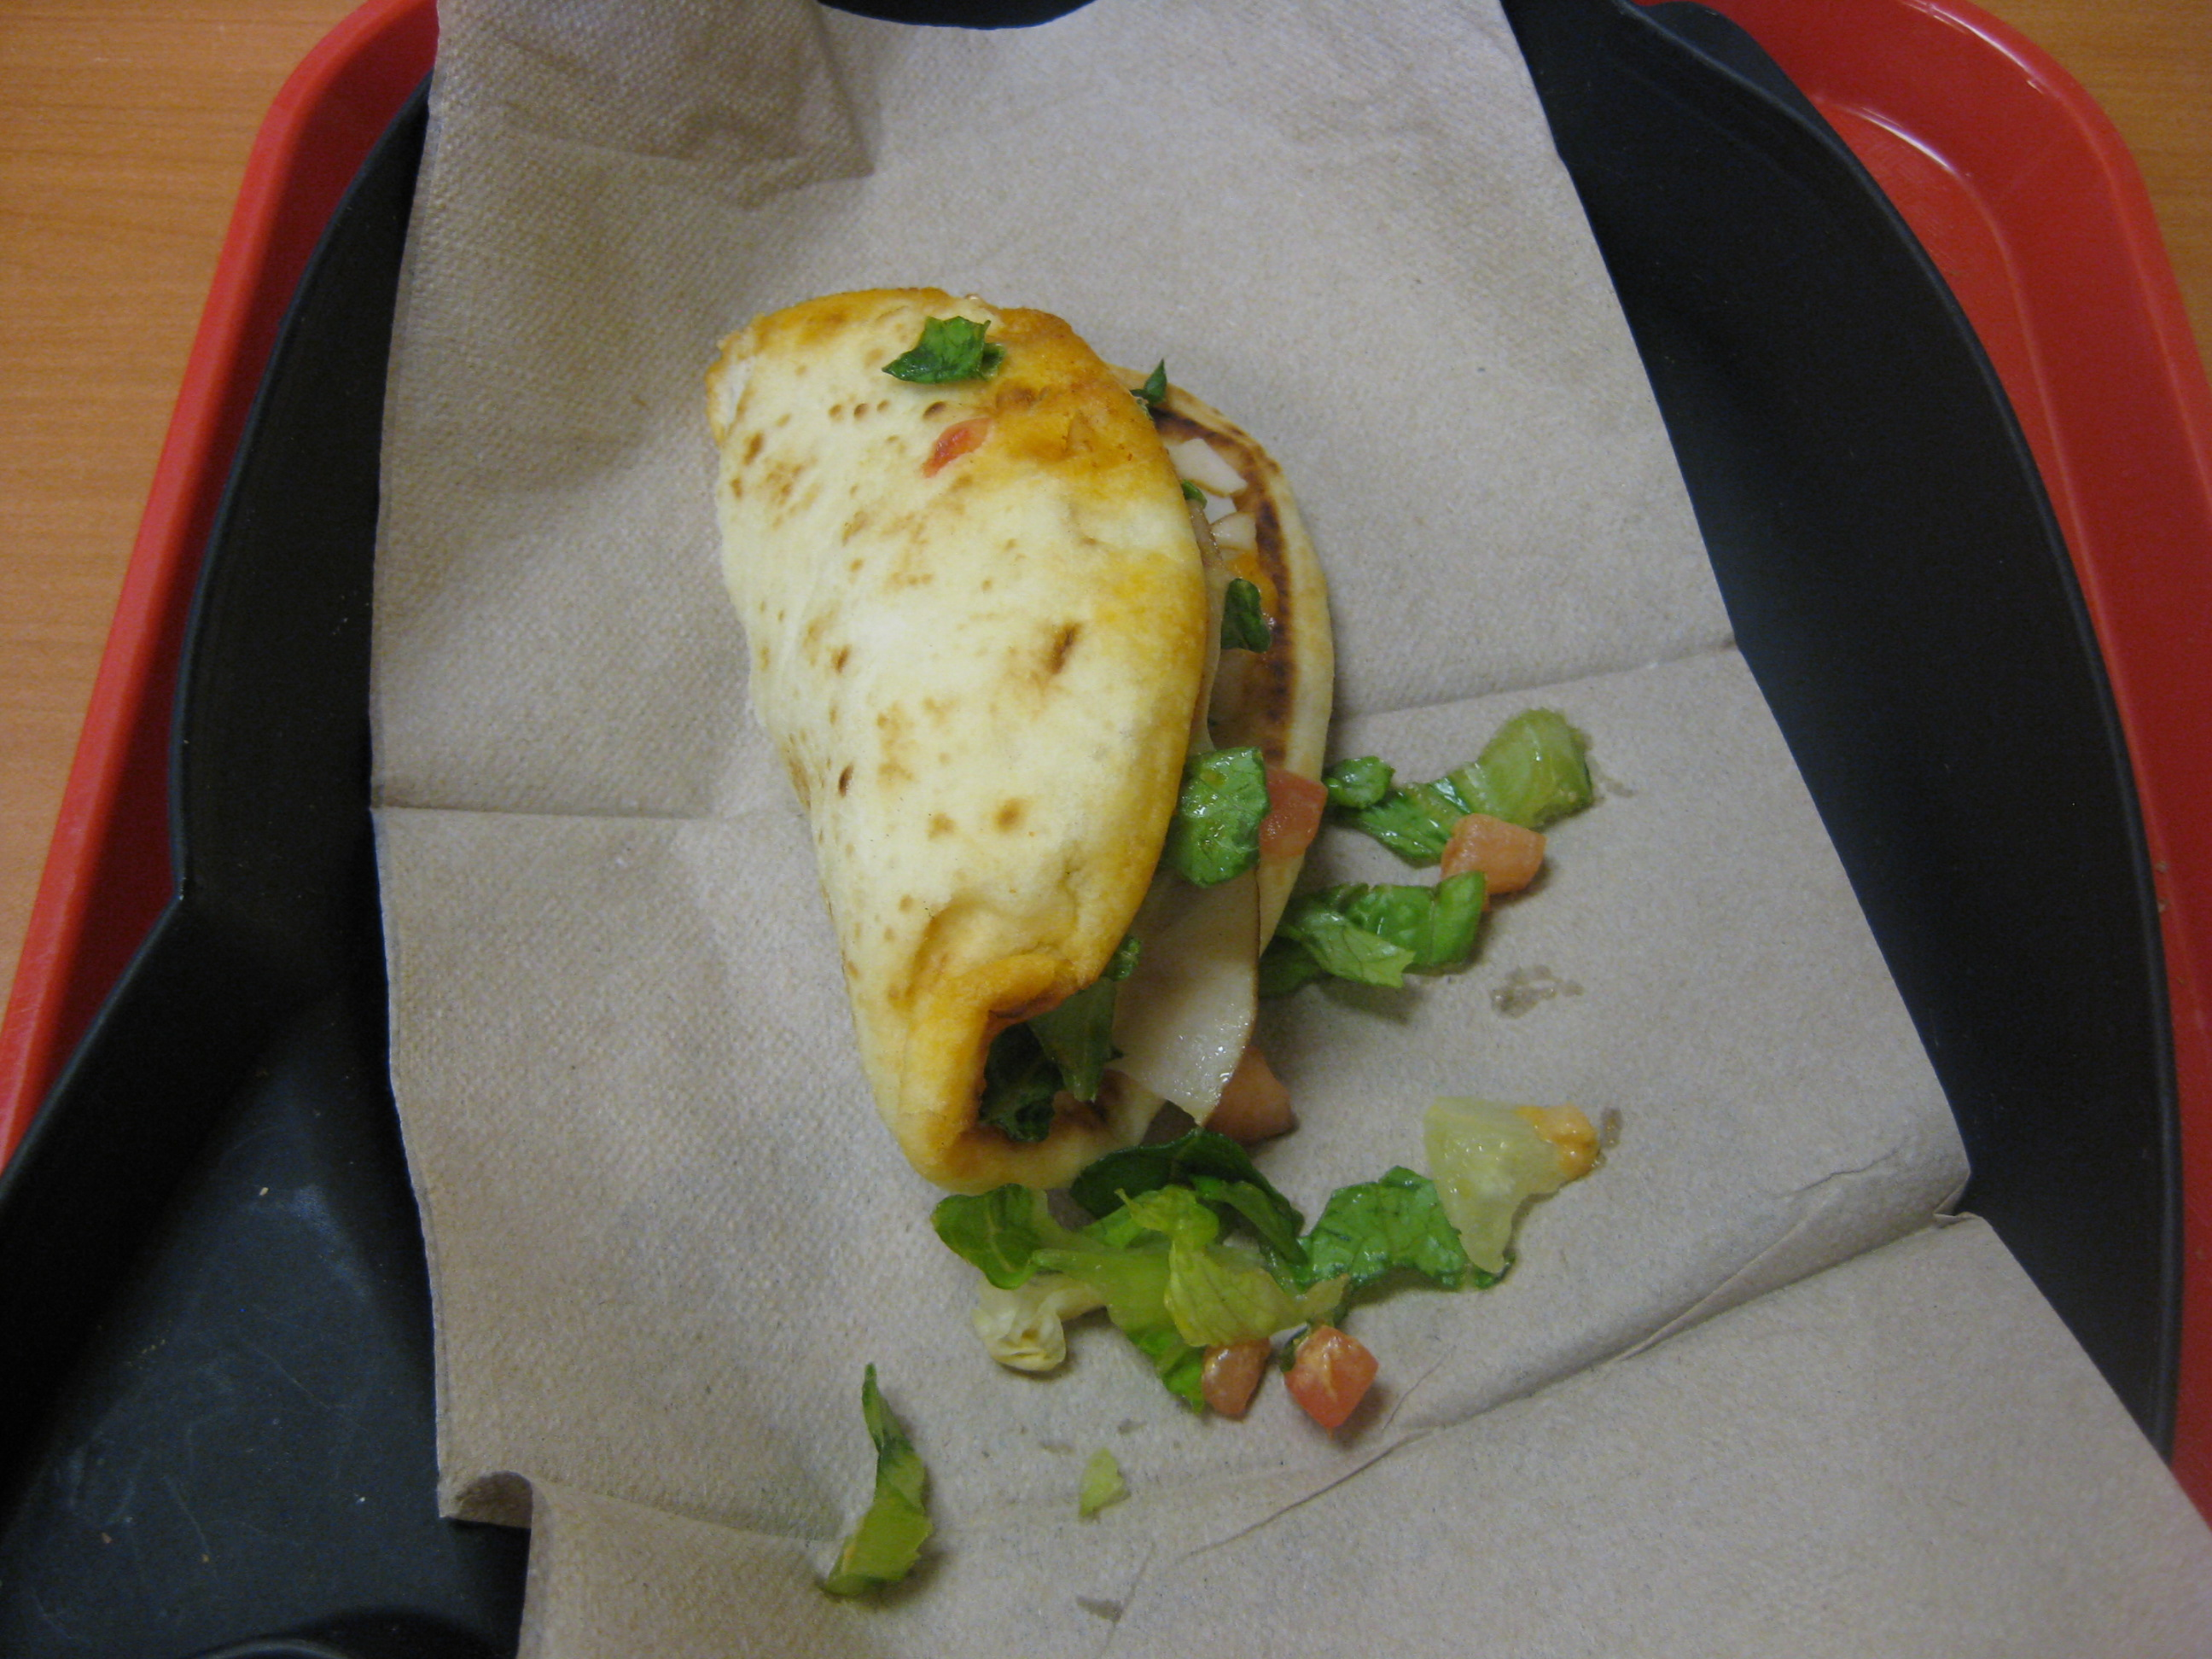taco: (678, 242, 1506, 1292)
